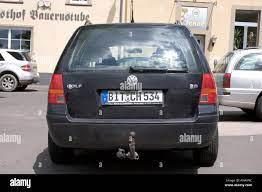3: (149, 91, 154, 101)
4: (155, 91, 160, 101)
5: (143, 91, 149, 101)
B: (108, 91, 114, 101)
C: (130, 92, 136, 101)
H: (135, 91, 142, 101)
I: (114, 91, 119, 102)
T: (120, 92, 125, 101)
